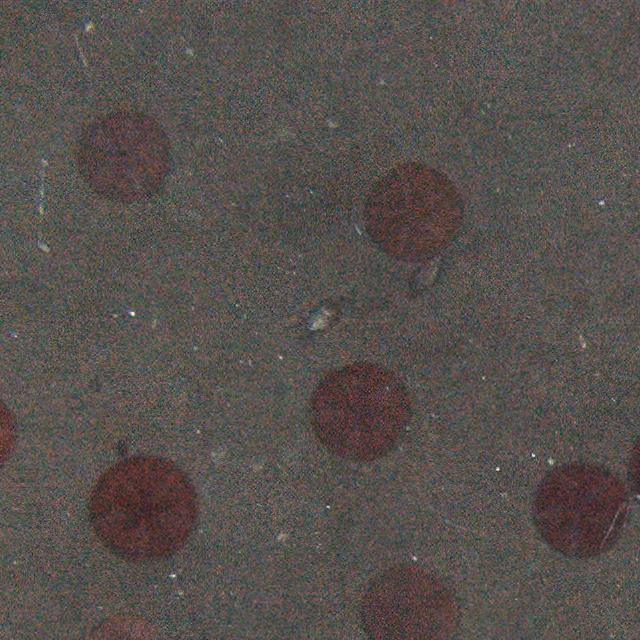whelk: (405, 252, 443, 294), (303, 300, 342, 330)
